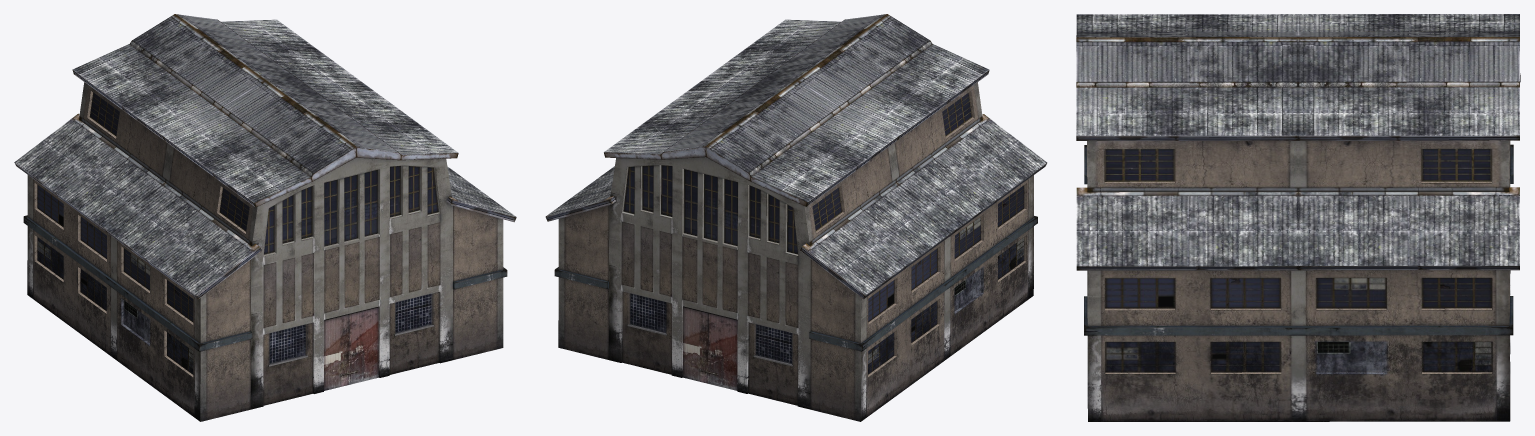
3 renders of one model, left to right at view 1: azimuth 30°, elevation 25°; view 2: azimuth 150°, elevation 25°; view 3: azimuth 270°, elevation 25°, orthographic. The views are drawn at different scales.
Visible parts, largest first — view 1: b9; view 2: b9; view 3: b9.
Part boxes in pixels (box(x1,y1,x2,y2)): b9: box(14, 14, 516, 421); b9: box(545, 14, 1047, 421); b9: box(1076, 14, 1520, 421).
Bounding box in the file's own units: 20.94 × 15.08 × 20.58.
1 material, 1 textured.
